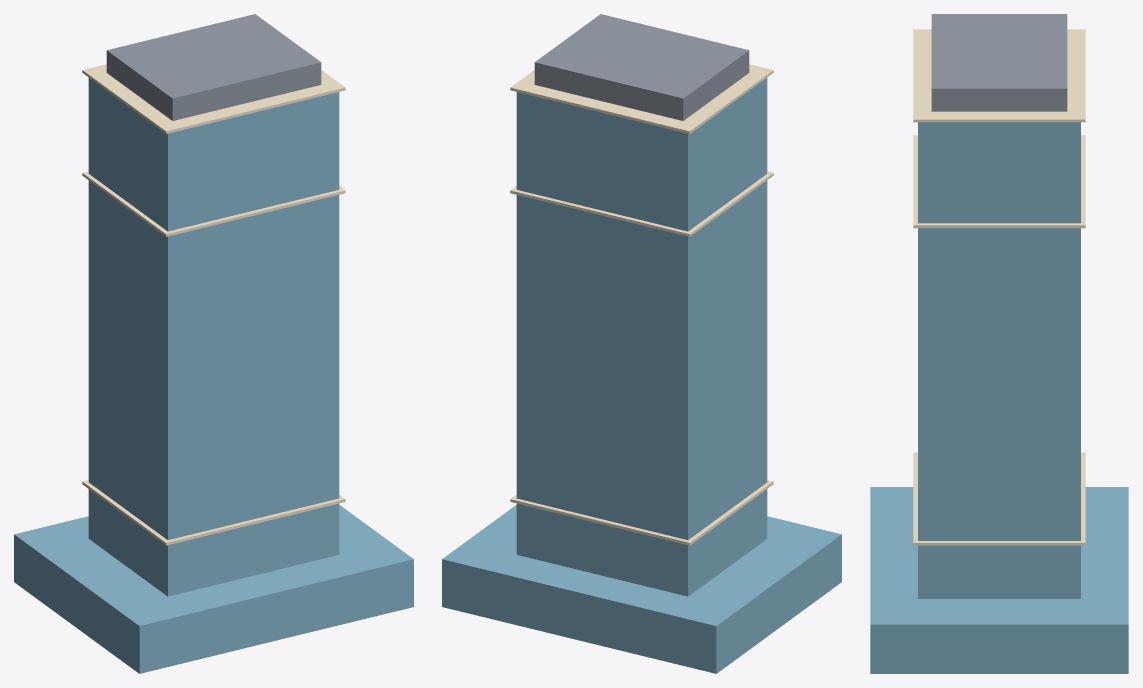
File: modern-0-lod2.glb
The picture shows the model from 3 angles, left to right: view 1: azimuth 30°, elevation 25°; view 2: azimuth 150°, elevation 25°; view 3: azimuth 270°, elevation 25°; orthographic projection. The views are drawn at different scales.
Parts seen in each view (by area): view 1: modern-0_architecture; view 2: modern-0_architecture; view 3: modern-0_architecture.
Part boxes in pixels (x1,y1,x2,y2): modern-0_architecture: [14, 14, 413, 673]; modern-0_architecture: [442, 14, 841, 673]; modern-0_architecture: [870, 14, 1128, 673].
Size of the model in its own units: 24 by 45 by 19.
